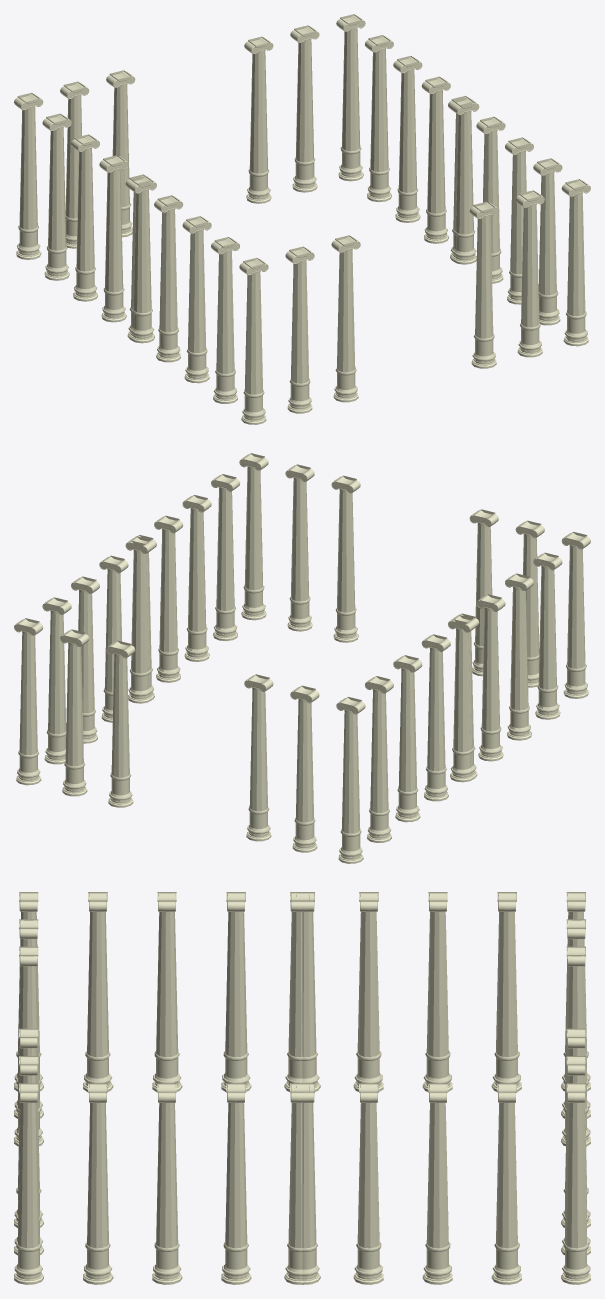
File: Temple Artemis Pillar Array.fbx
The picture shows the model from 3 angles, top to bottom: view 1: azimuth 30°, elevation 25°; view 2: azimuth 150°, elevation 25°; view 3: azimuth 270°, elevation 25°; orthographic projection. The views are drawn at different scales.
Parts seen in each view (by area): view 1: PillarArray; view 2: PillarArray; view 3: PillarArray.
Part boxes in pixels (bbox=[...]): PillarArray: bbox=[14, 14, 590, 424]; PillarArray: bbox=[14, 453, 590, 863]; PillarArray: bbox=[14, 892, 590, 1284].
Size of the model in its own units: 997 by 434 by 1187.
